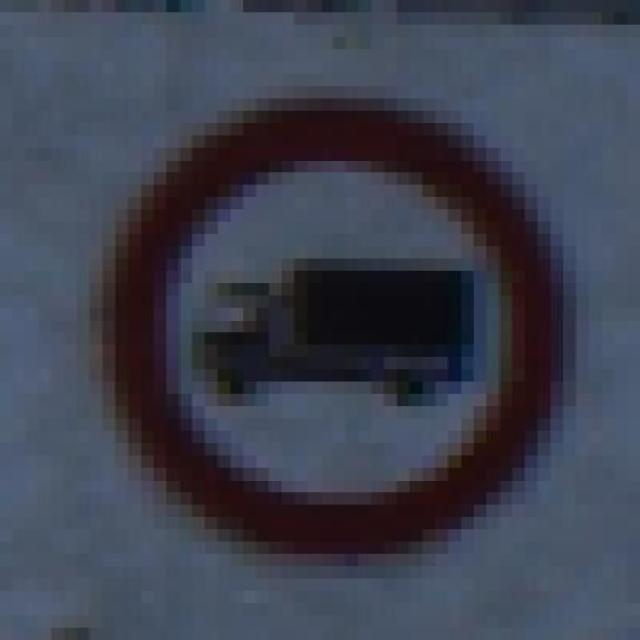Truck traffic is prohibited: (38, 86, 590, 566)
